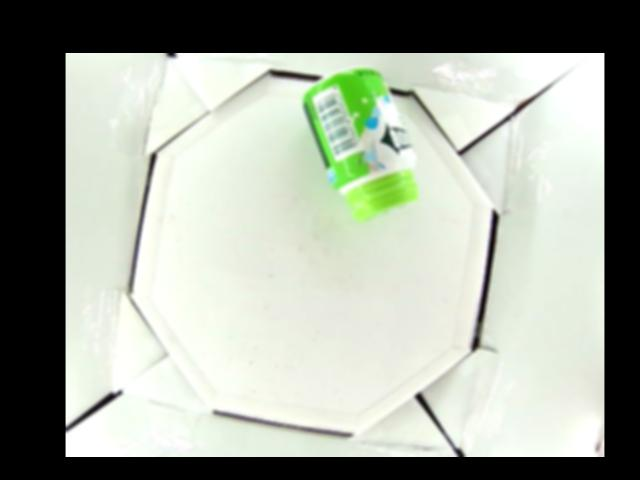Bottle: (302, 68, 416, 222)
